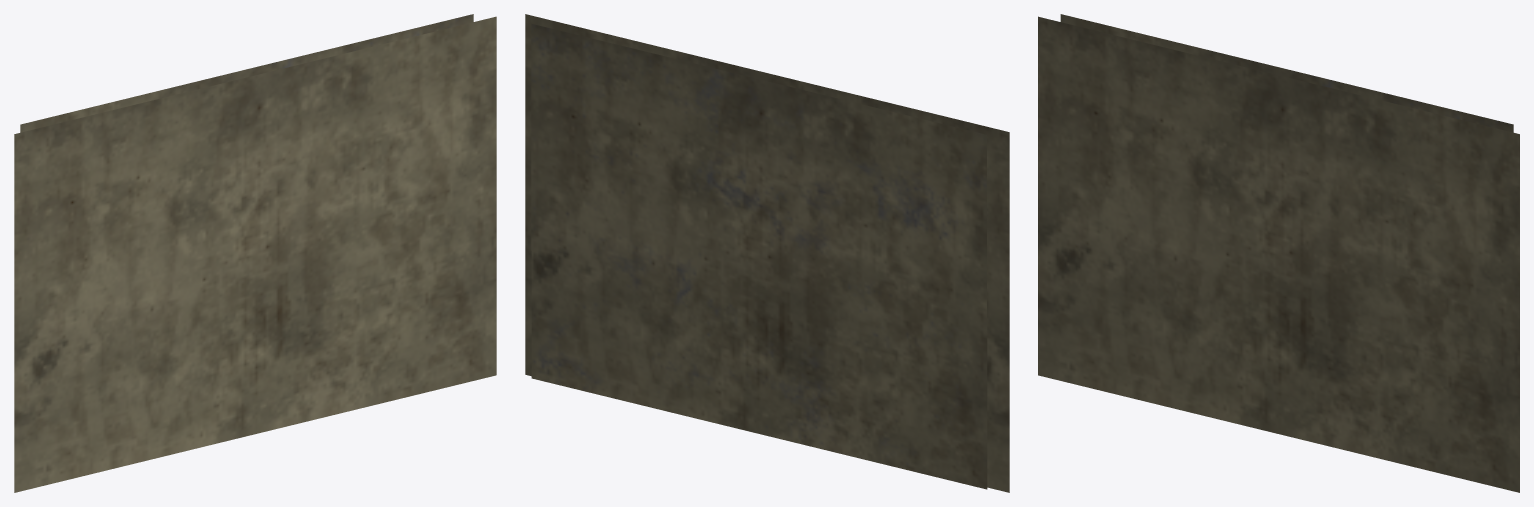
File: Support House Left.fbx
The picture shows the model from 3 angles, left to right: view 1: azimuth 30°, elevation 25°; view 2: azimuth 150°, elevation 25°; view 3: azimuth 330°, elevation 25°; orthographic projection.
Visible parts, largest first — view 1: Casa de Apoio Parede da esquerda; view 2: Casa de Apoio Parede da esquerda; view 3: Casa de Apoio Parede da esquerda.
Boxes of the visible parts, box(x1,y1,x2,y2) form: Casa de Apoio Parede da esquerda: box(14, 14, 496, 492); Casa de Apoio Parede da esquerda: box(525, 14, 1009, 492); Casa de Apoio Parede da esquerda: box(1038, 14, 1519, 492).
Bounding box in the file's own units: 500 × 356 × 15.02.
